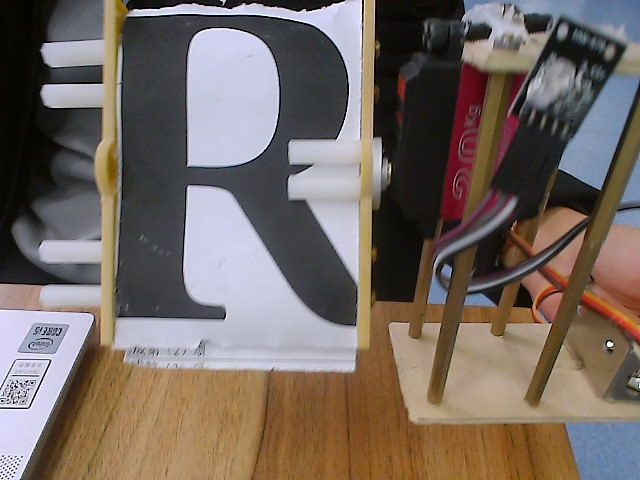R: (38, 1, 411, 430)
